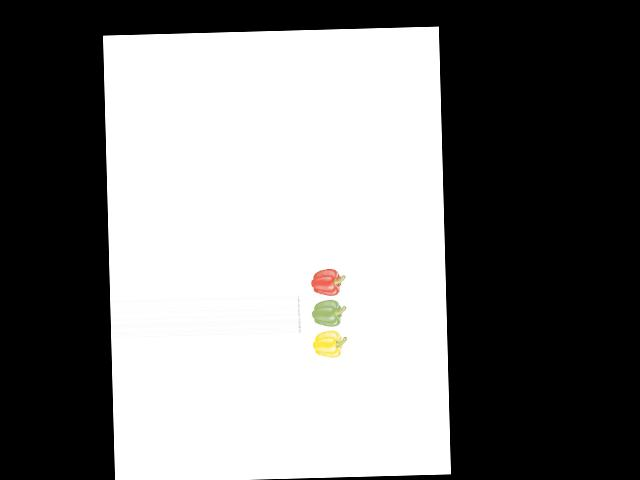bell_pepper: (309, 328, 346, 359)
